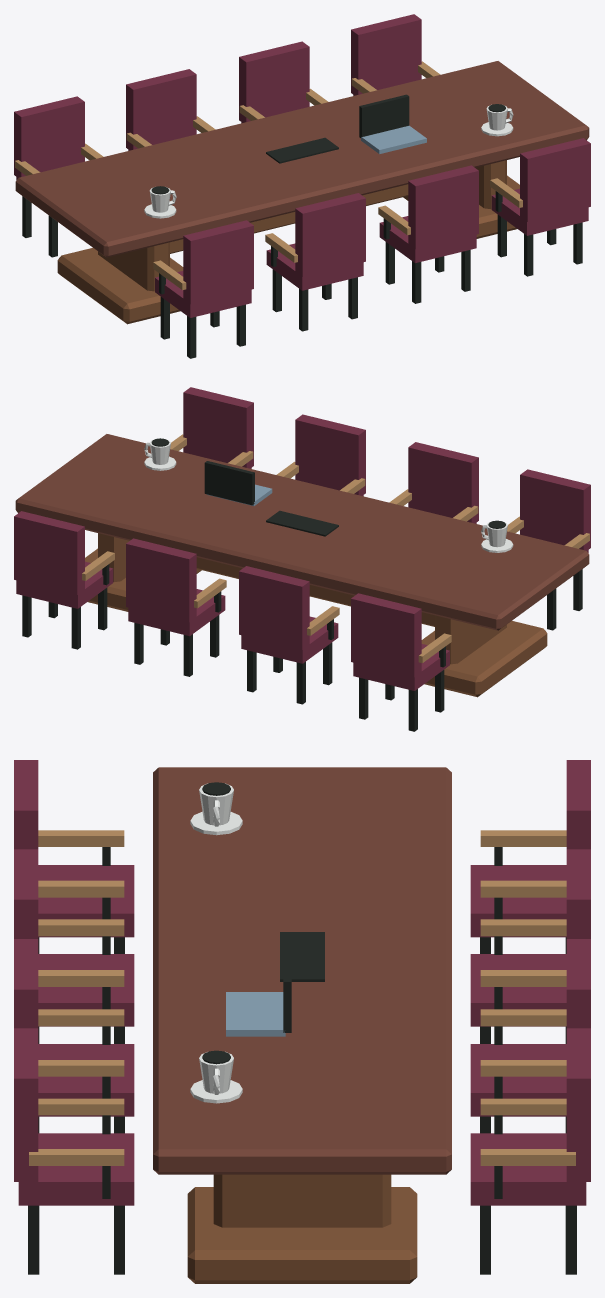
Rendered from gh_meeting_set_v01.glb.
The picture shows the model from 3 angles, top to bottom: view 1: azimuth 30°, elevation 25°; view 2: azimuth 150°, elevation 25°; view 3: azimuth 270°, elevation 25°; orthographic projection. The views are drawn at different scales.
Parts seen in each view (by area): view 1: Mahogany meeting table eight chairs and fittings; view 2: Mahogany meeting table eight chairs and fittings; view 3: Mahogany meeting table eight chairs and fittings.
Part boxes in pixels (left/top/right/bottom): Mahogany meeting table eight chairs and fittings: left=14, top=14, right=590, bottom=358; Mahogany meeting table eight chairs and fittings: left=14, top=387, right=590, bottom=731; Mahogany meeting table eight chairs and fittings: left=14, top=760, right=590, bottom=1283.
Size of the model in its own units: 4.9 by 1.28 by 3.09.
Materials: 1 (1 with a texture image).
